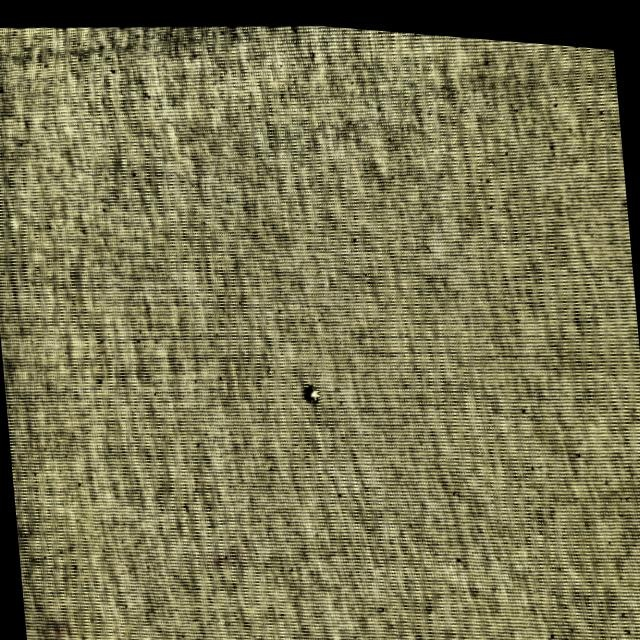Hole: (292, 373, 332, 413)
